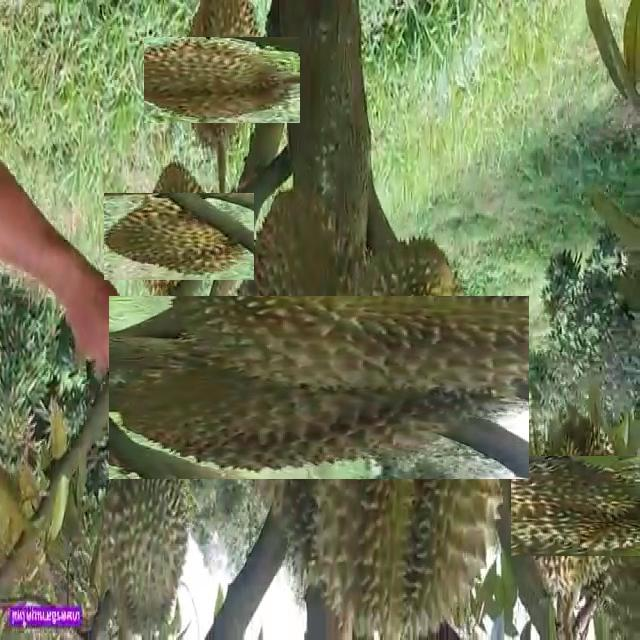durian: (168, 237, 470, 539), (308, 224, 511, 640), (497, 431, 640, 581), (95, 423, 194, 635), (161, 19, 282, 141), (119, 177, 238, 297)
